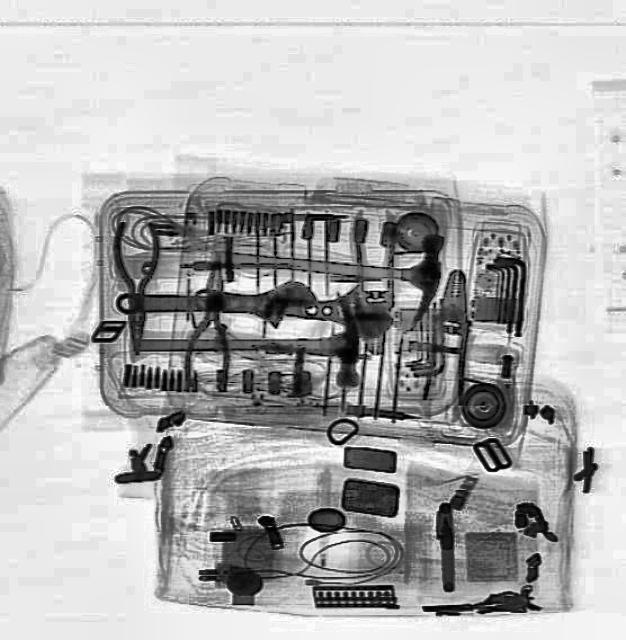Pliers: (180, 249, 242, 389), (424, 268, 476, 400), (110, 221, 160, 353)
Wrench: (114, 274, 388, 338), (193, 272, 317, 330)
